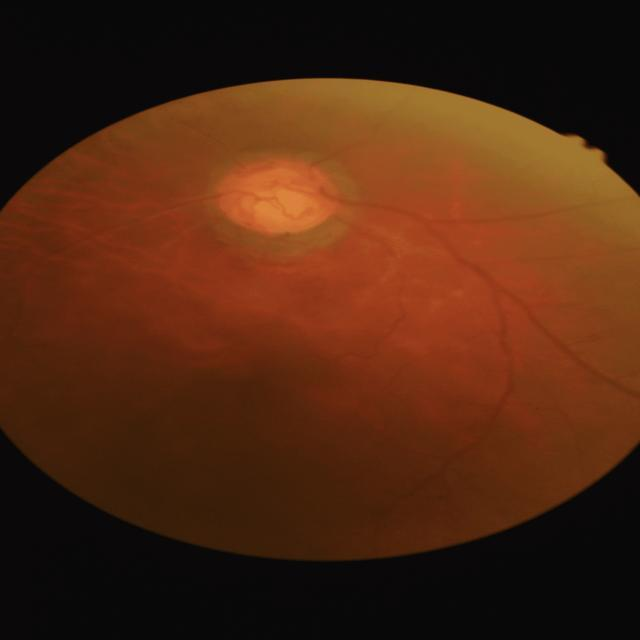cup: (232, 167, 324, 225)
disk: (215, 156, 335, 232)
